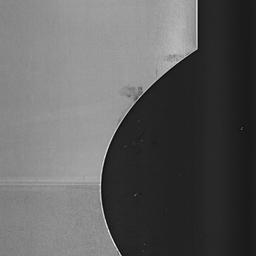Crescent gap: (101, 49, 198, 256)
